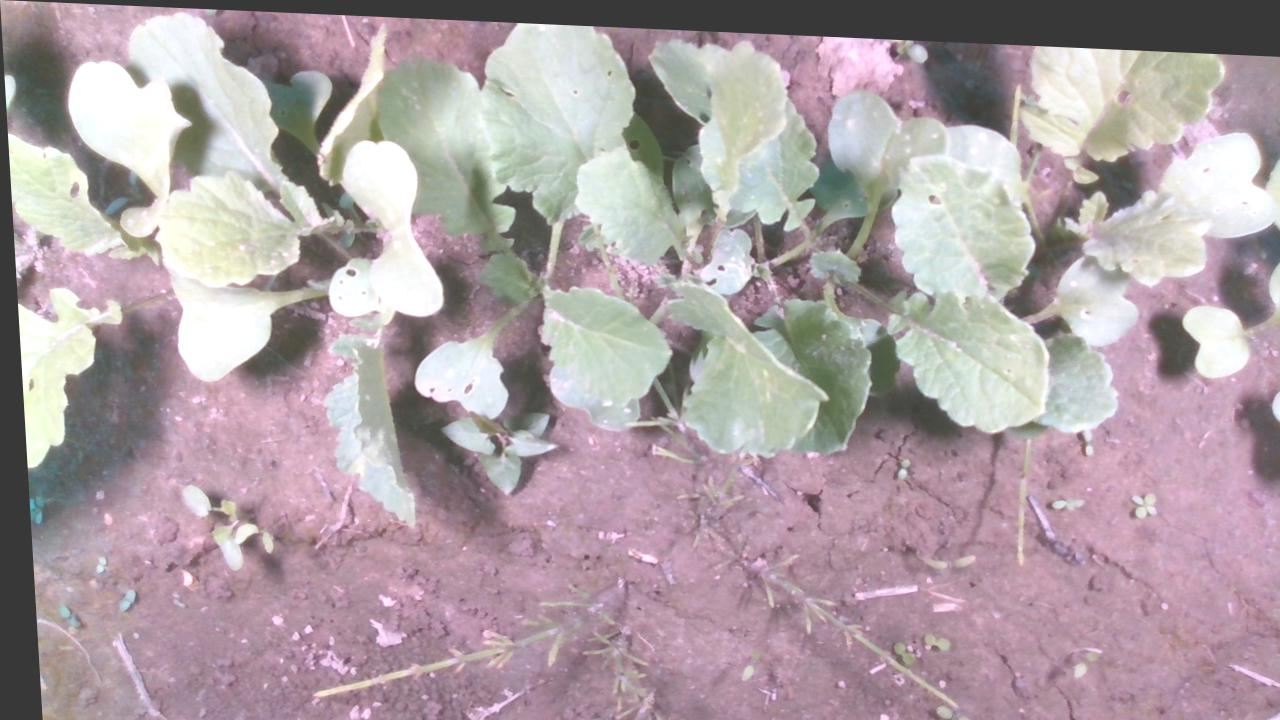weed: (908, 541, 970, 562), (924, 695, 968, 719), (1062, 636, 1093, 668), (1123, 479, 1152, 508), (48, 601, 74, 628), (1043, 486, 1080, 503), (884, 632, 906, 657), (914, 625, 942, 643), (109, 585, 128, 610), (889, 448, 905, 472), (86, 553, 100, 572)
